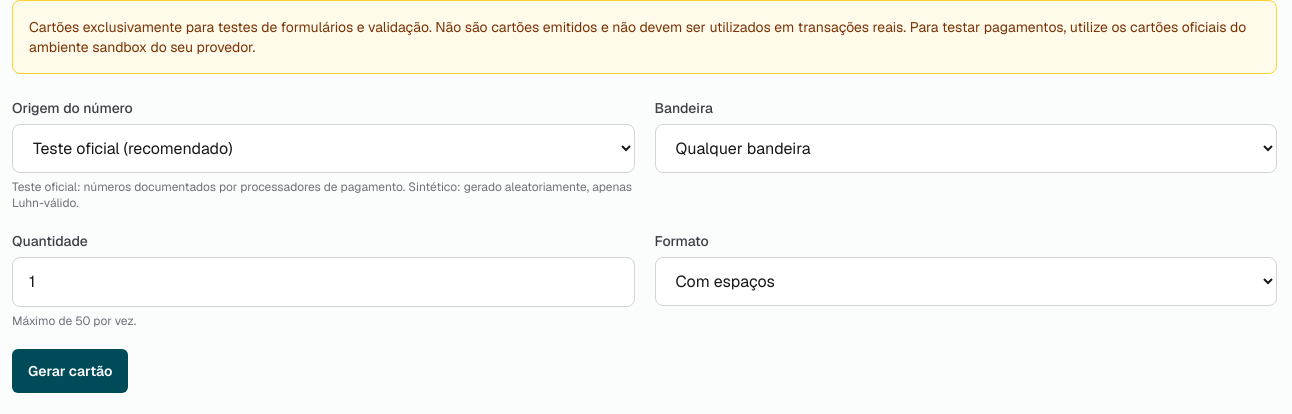
Test: CreditCardGeneratorTool › mostra erro quando a quantidade é maior que o limite
The image size is (1292, 414).
In the field labelled "Quantidade": (323, 282) [12, 257, 634, 307], type "999"
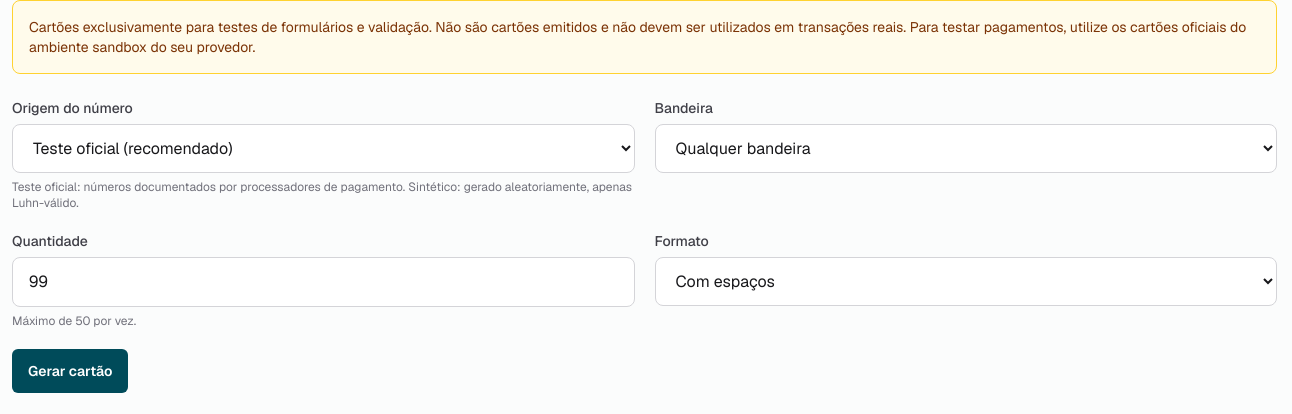
Click the button "Gerar cartão": (70, 371) [12, 349, 128, 393]
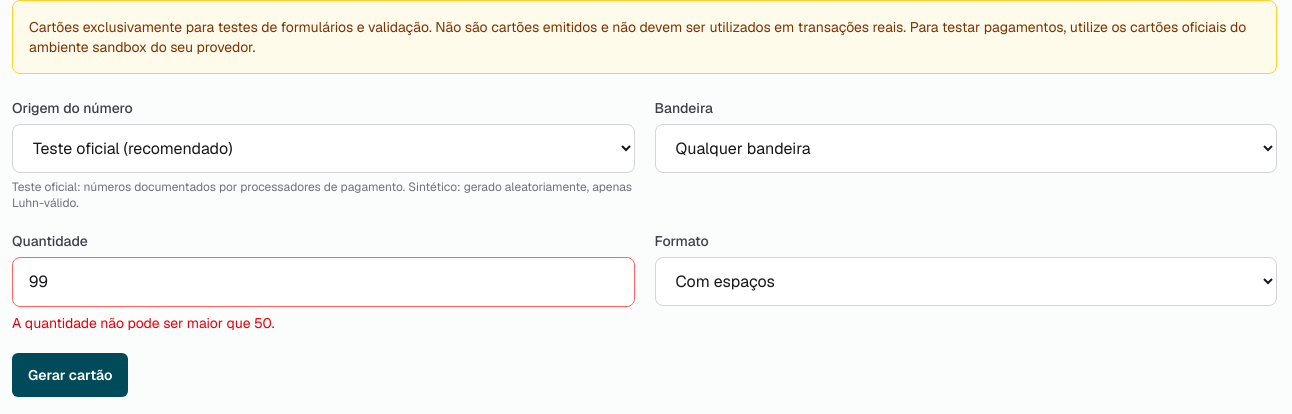
Check: the text "A quantidade não pode ser maior que 50." is shown, box [12, 314, 275, 332]
